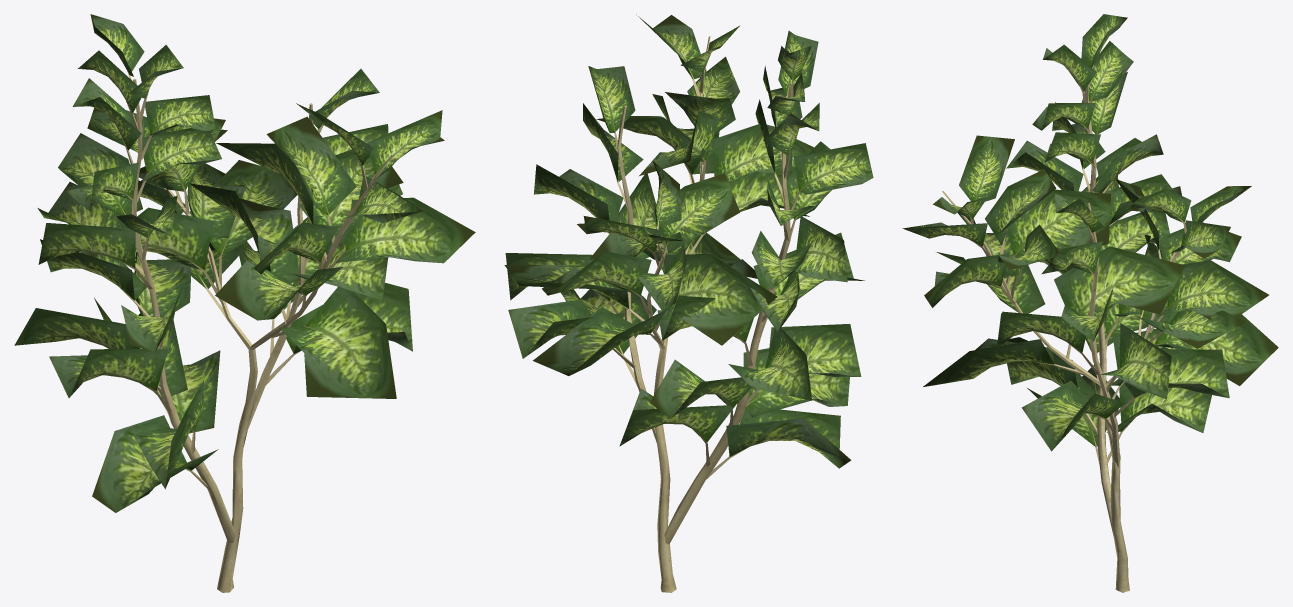
File: tropical-plant.lod1.glb
3 renders of one model, left to right at view 1: azimuth 30°, elevation 25°; view 2: azimuth 150°, elevation 25°; view 3: azimuth 270°, elevation 25°, orthographic. The views are drawn at different scales.
Parts seen in each view (by area): view 1: Tree_1_Tree_1Mat_0, Tree_0_Tree_0Mat_0; view 2: Tree_1_Tree_1Mat_0, Tree_0_Tree_0Mat_0; view 3: Tree_1_Tree_1Mat_0, Tree_0_Tree_0Mat_0.
Part boxes in pixels (x1,y1,x2,y2): Tree_1_Tree_1Mat_0: [14, 14, 475, 512]; Tree_0_Tree_0Mat_0: [118, 72, 392, 592]; Tree_1_Tree_1Mat_0: [504, 14, 873, 468]; Tree_0_Tree_0Mat_0: [592, 36, 809, 592]; Tree_1_Tree_1Mat_0: [902, 14, 1278, 451]; Tree_0_Tree_0Mat_0: [942, 64, 1186, 592].
Size of the model in its own units: 0.8451 by 1.4 by 0.9246.
Materials: 2 (2 with a texture image).
